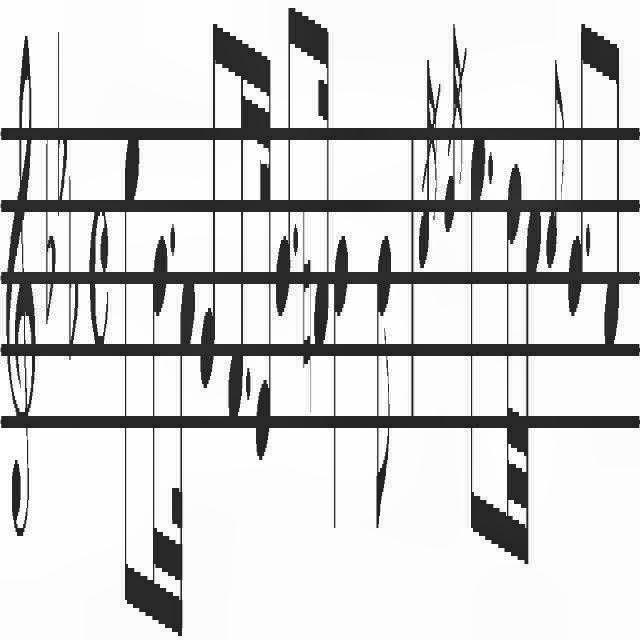Bass-clef: (2, 18, 36, 582)
Bemol: (52, 2, 68, 216), (42, 110, 56, 348), (66, 147, 78, 360)
Eighth-note: (120, 102, 144, 640), (198, 13, 224, 404), (468, 123, 488, 571), (374, 222, 396, 574), (602, 11, 622, 363), (564, 14, 586, 330), (275, 2, 293, 338)
Quarter-note: (331, 231, 349, 534)
Sixteenth-note: (312, 13, 332, 384), (149, 222, 167, 614), (228, 24, 245, 426)
